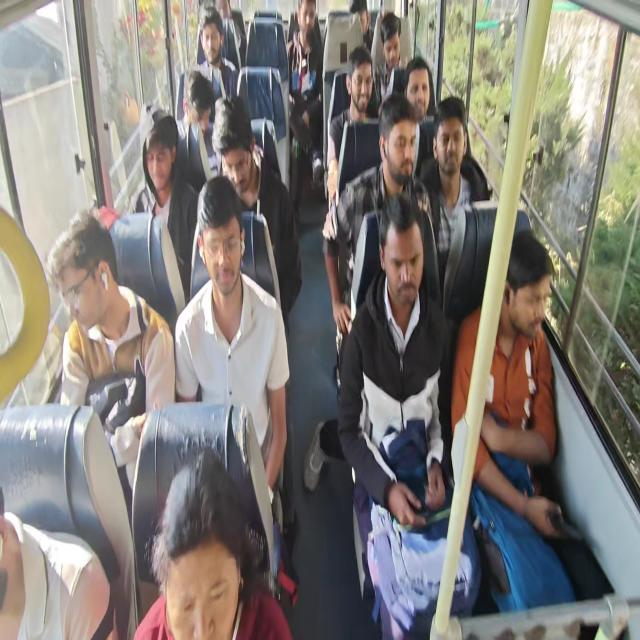person: (160, 465, 254, 640), (48, 224, 126, 329), (498, 236, 560, 332), (201, 190, 242, 292), (215, 109, 258, 198), (375, 239, 426, 302), (180, 79, 214, 146), (387, 124, 423, 186), (140, 112, 170, 181), (437, 108, 465, 175), (342, 0, 371, 44), (409, 74, 434, 122), (347, 68, 372, 112), (296, 0, 318, 46), (203, 25, 226, 68), (381, 31, 405, 72)
